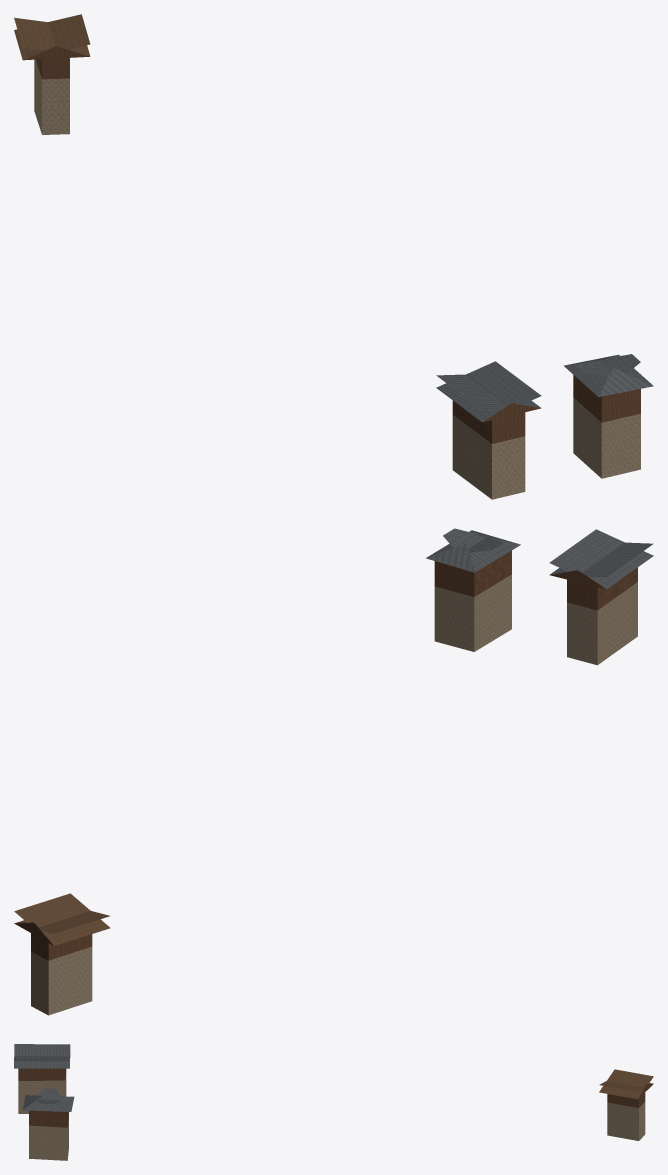
Rendered from bld_c36_-27_440.gltf.
The picture shows the model from 3 angles, top to bottom: view 1: azimuth 30°, elevation 25°; view 2: azimuth 150°, elevation 25°; view 3: azimuth 270°, elevation 25°; orthographic projection. The views are drawn at different scales.
Parts seen in each view (by area): view 1: bld_c36_-27_440; view 2: bld_c36_-27_440; view 3: bld_c36_-27_440.
Part boxes in pixels (x1=…): bld_c36_-27_440: x1=14, y1=14, x2=653, y2=499; bld_c36_-27_440: x1=14, y1=528, x2=653, y2=1015; bld_c36_-27_440: x1=14, y1=1044, x2=653, y2=1160.
Size of the model in its own units: 15.61 by 9 by 79.07.
Materials: 5 (5 with a texture image).
